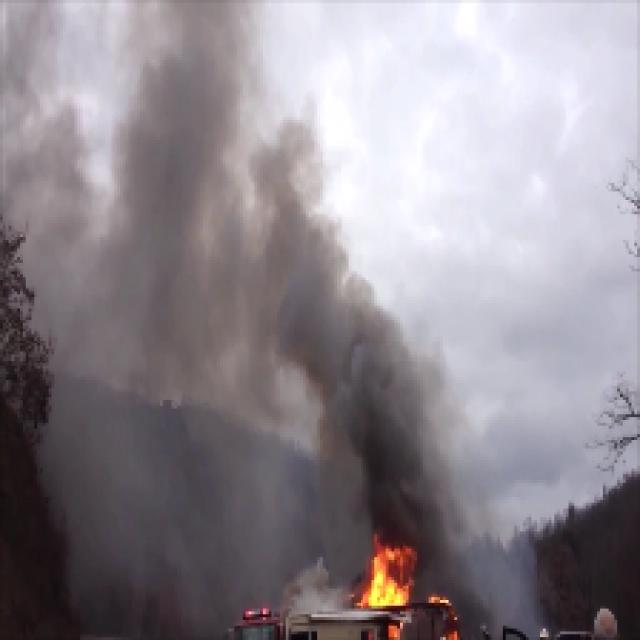fire: (366, 544, 406, 609)
smoke: (188, 248, 352, 362), (352, 359, 429, 546)
